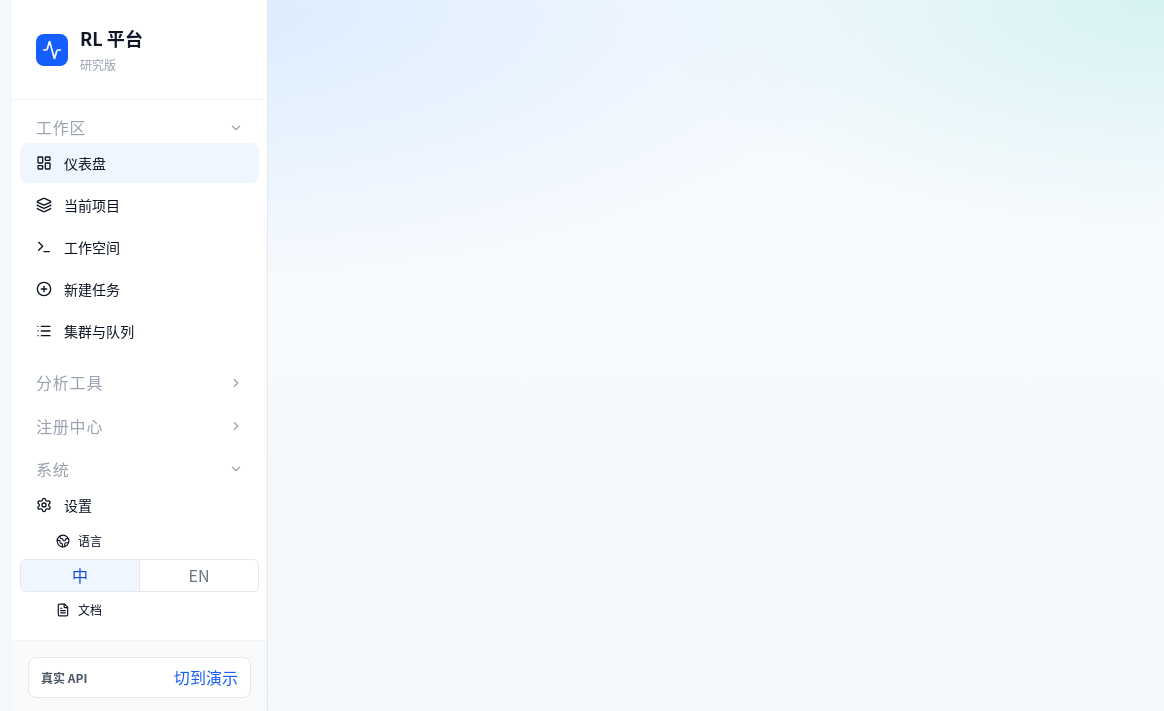
sidebar locale toggle › switches language via sidebar 中/EN buttons
Click the button "EN" at (198, 576), box 139,560 -> 258,591
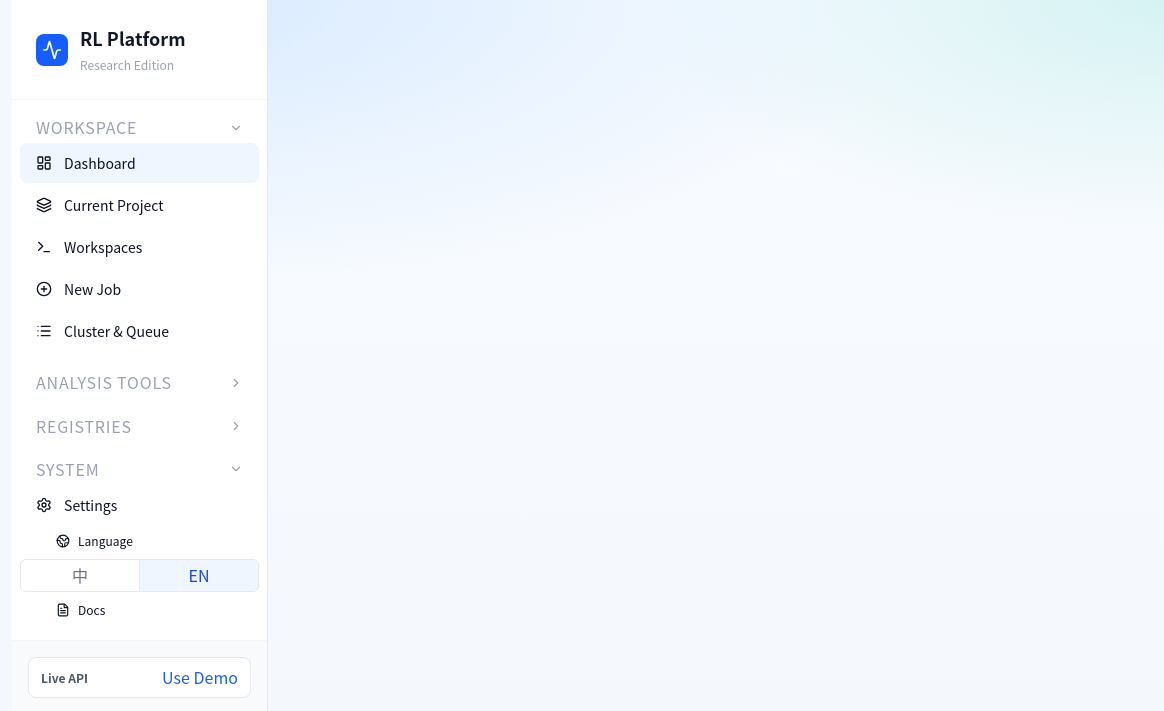
Result: the text "Workspace" is shown at 36,116 -> 137,139
Click the button "中" at (80, 576), box 21,560 -> 139,591
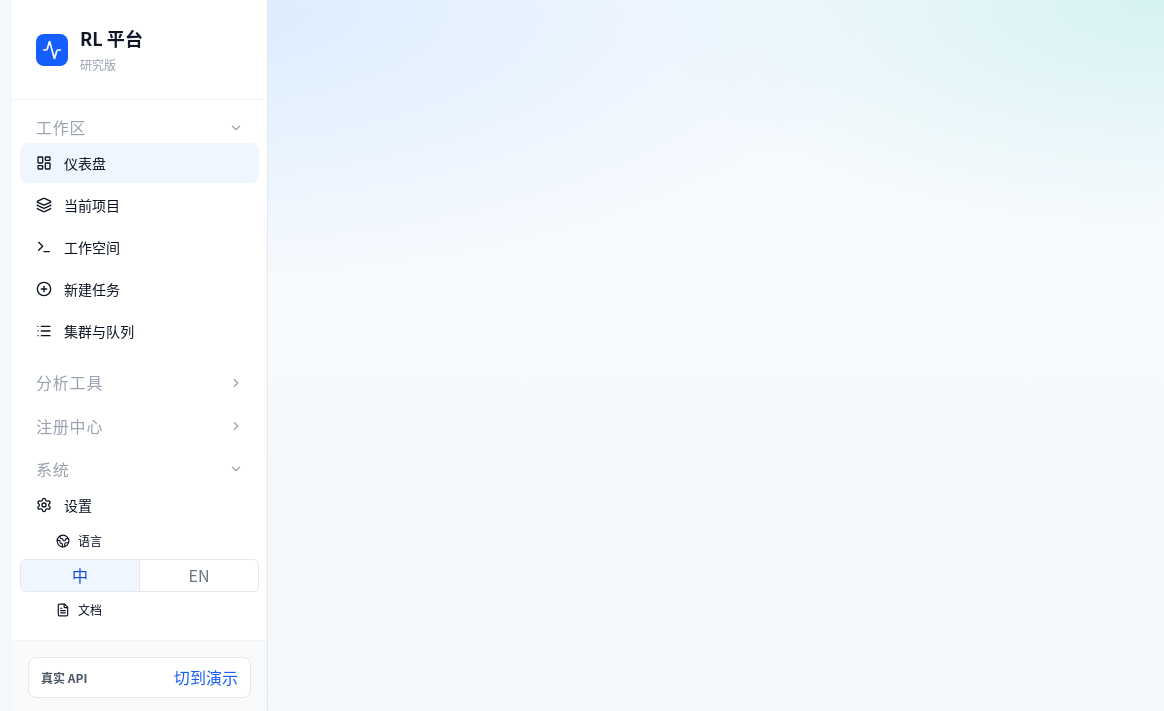
Result: the text "工作区" is shown at 36,116 -> 86,139
